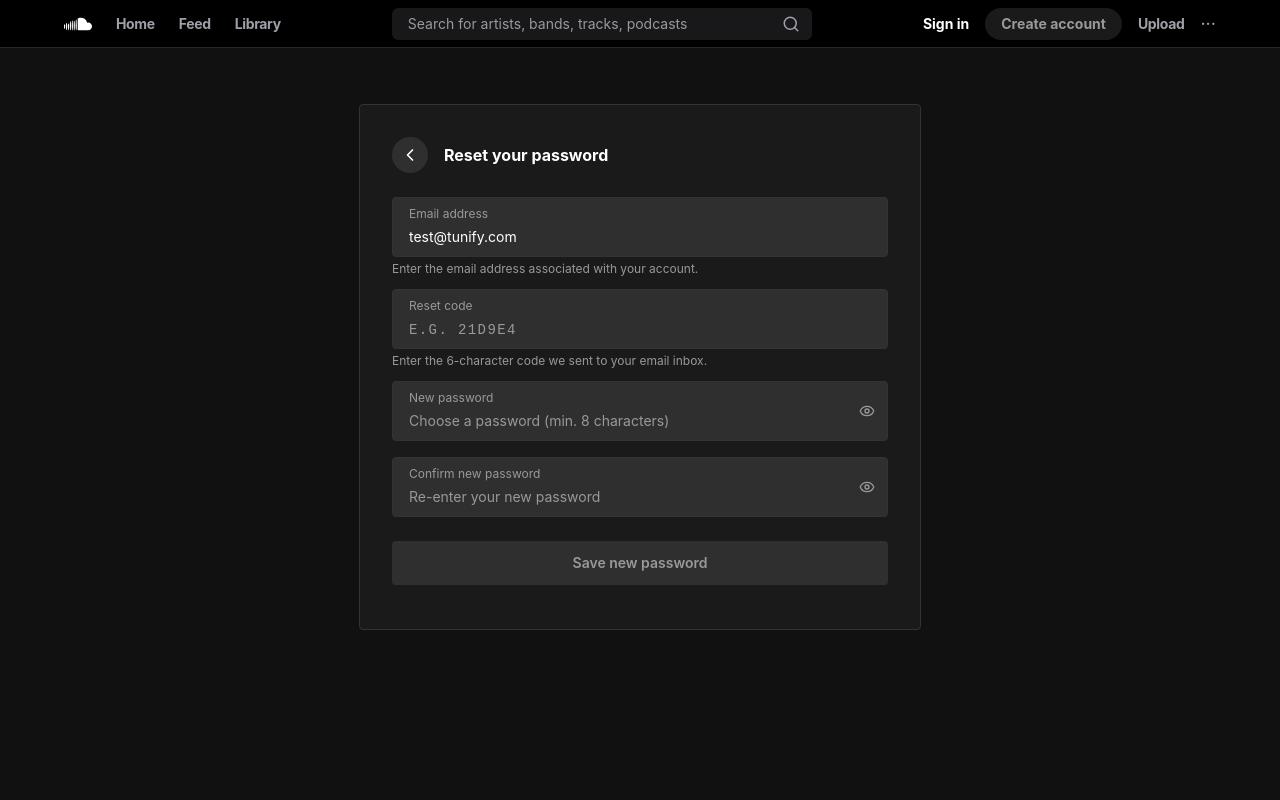
Test: ResetPasswordPage — extra coverage › handles email error message
Type "ABC123" into the field with placeholder "e.g. 21D9E4" at x=640, y=330, box [409,320,871,340]
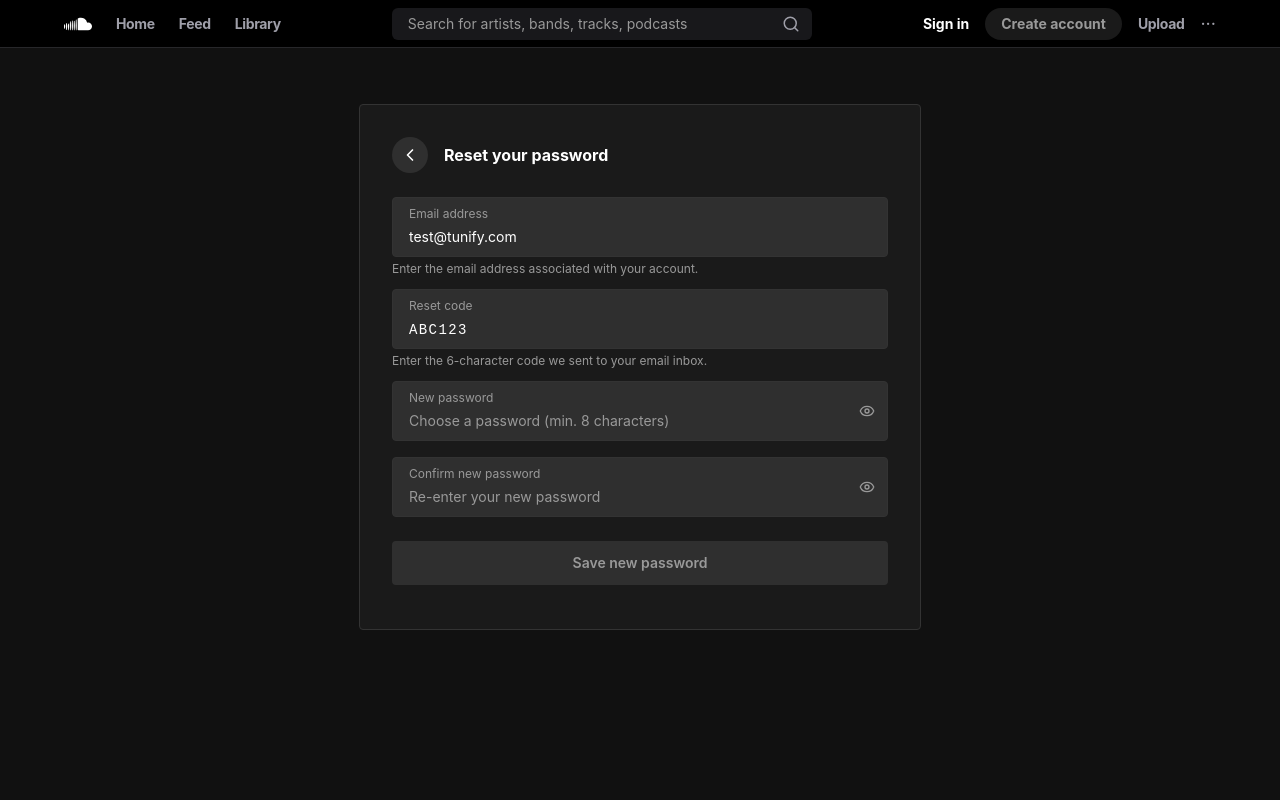
Type "Test@1234" into the password field with placeholder "Choose a password (min. 8 characters)" at x=640, y=421, box [409,411,871,431]
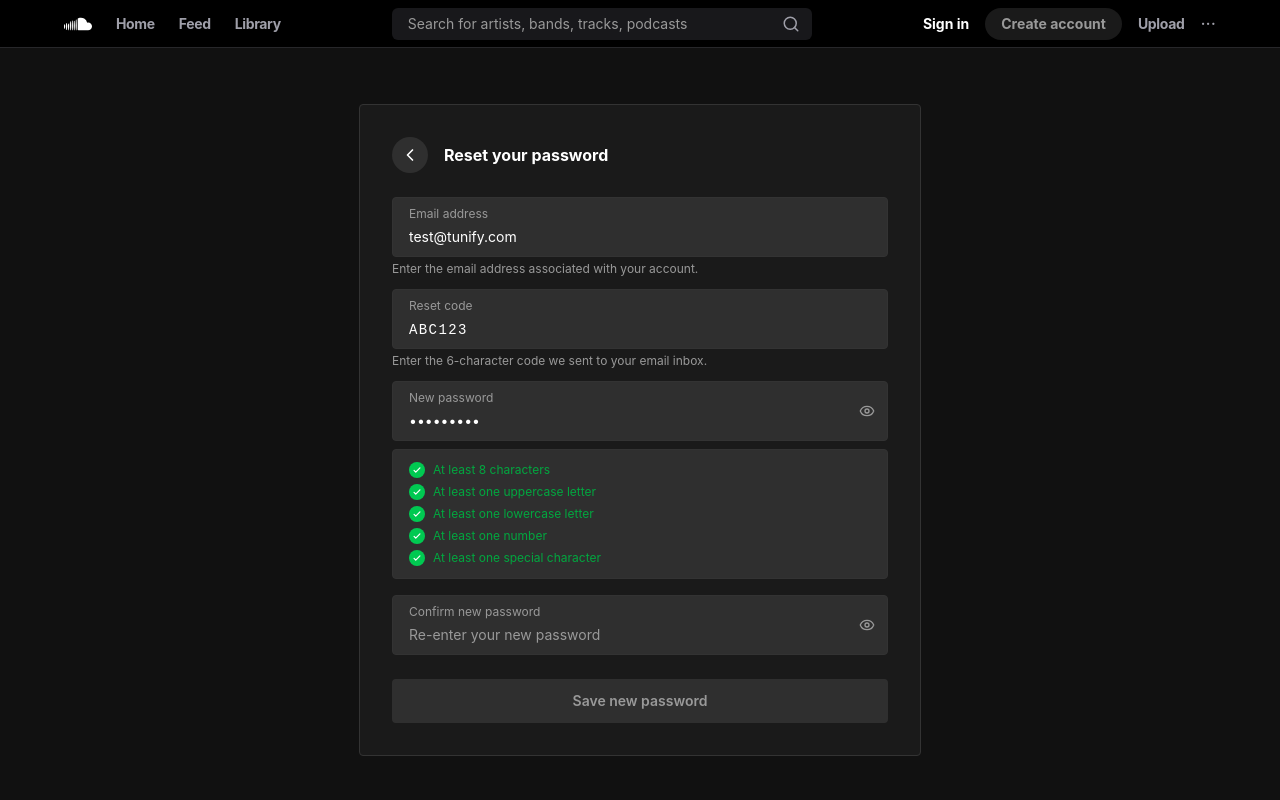
Type "Test@1234" into the password field with placeholder "Re-enter your new password" at x=640, y=635, box [409,625,871,645]
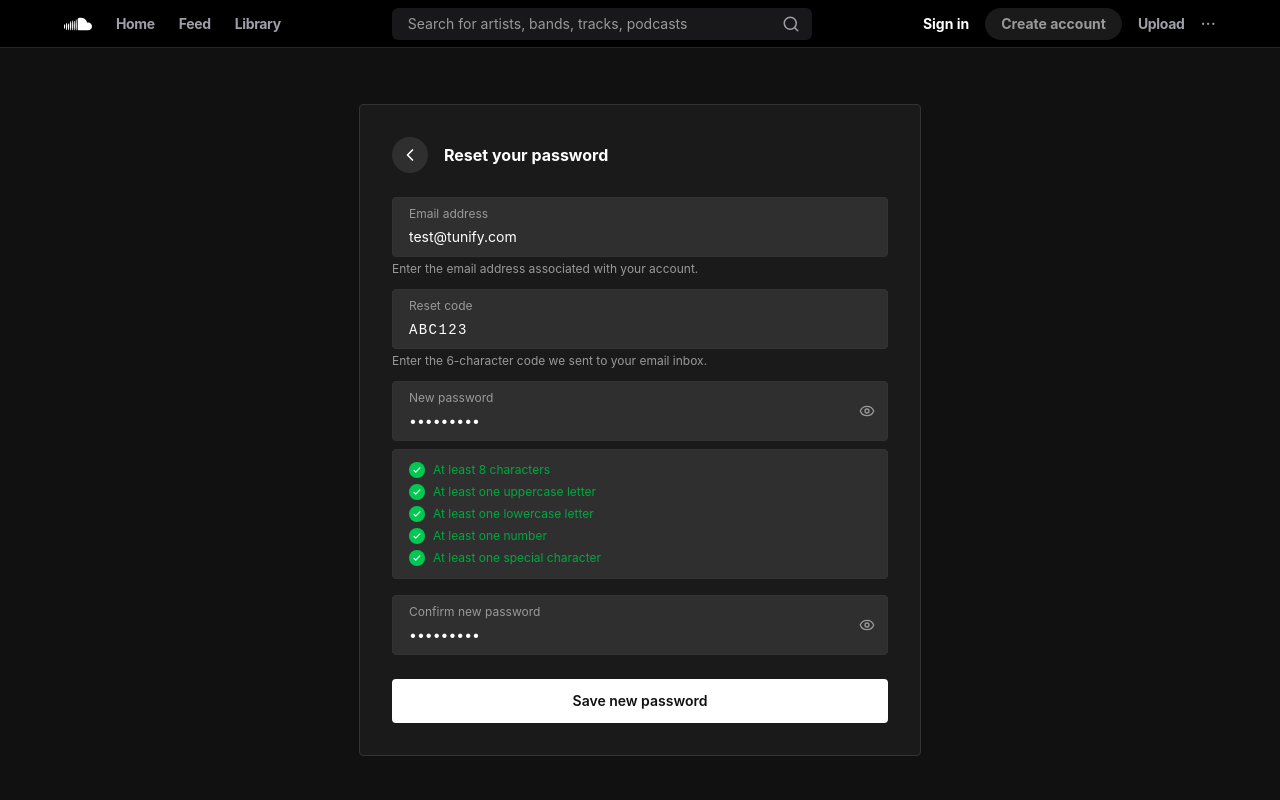
Click the button "Save new password" at x=640, y=701, box [392,679,888,723]
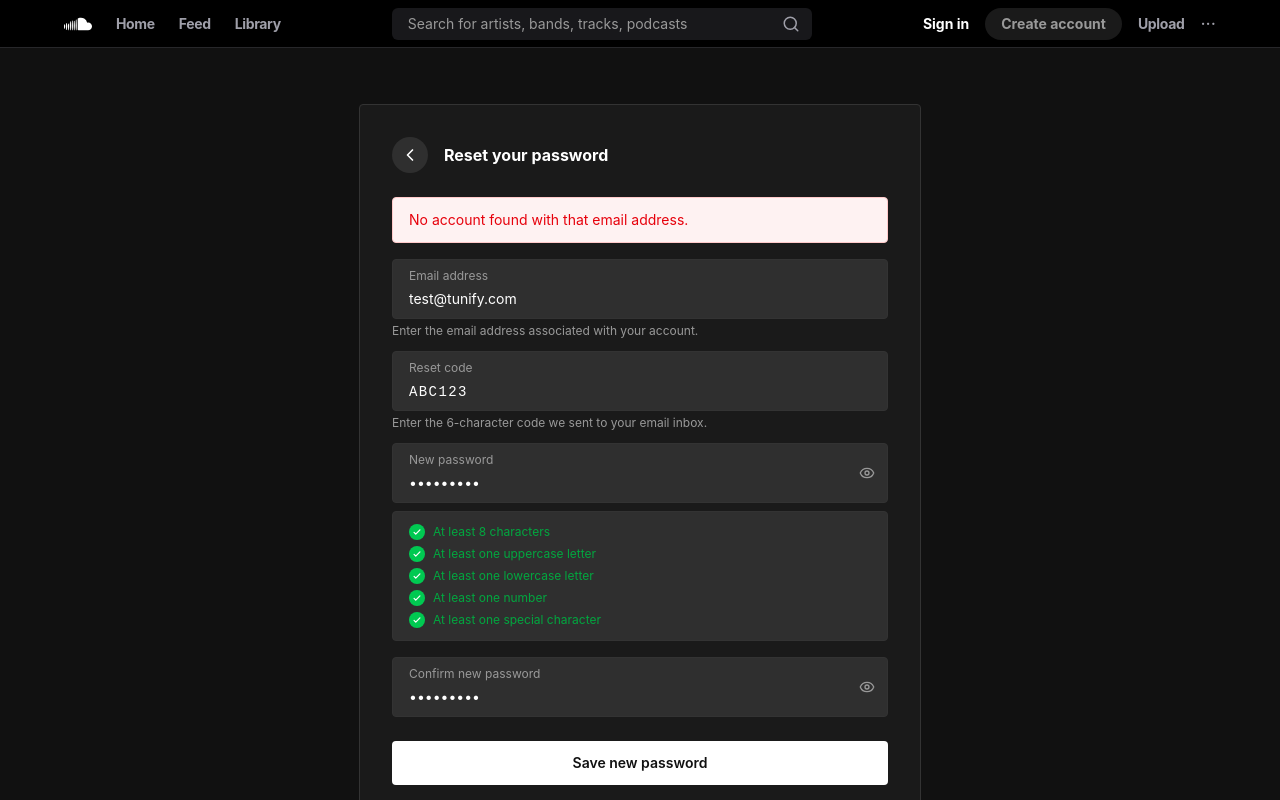
Expected: the text "No account found with that email address." is shown, [392,197,888,243]
